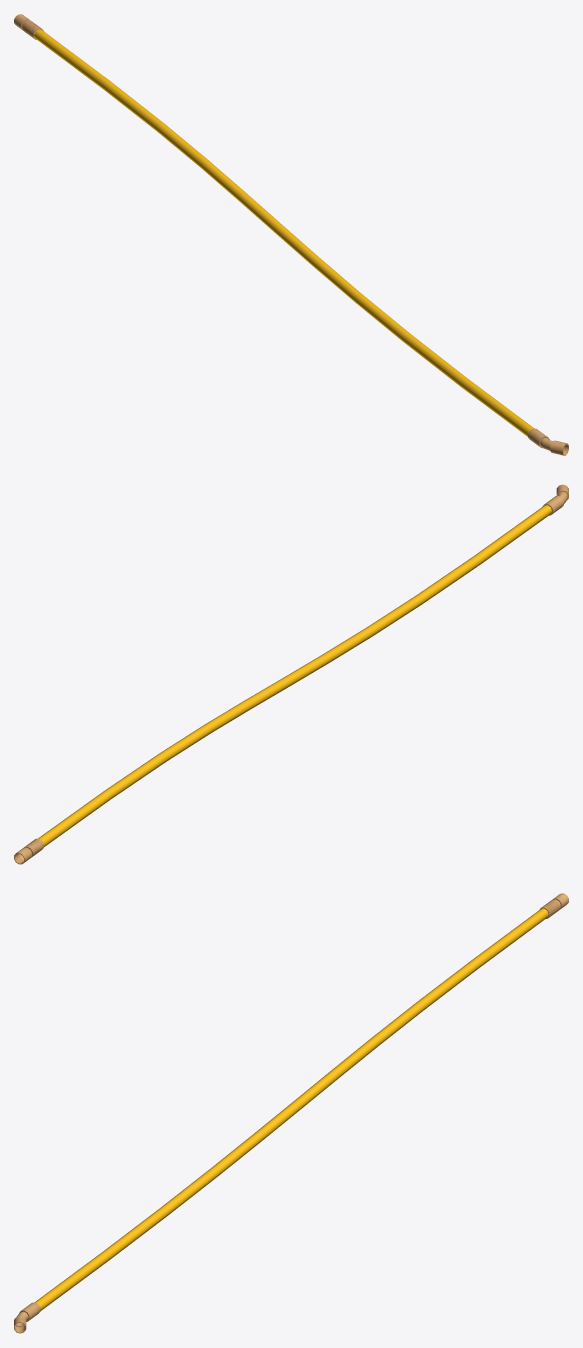
The model's file is wireyellow.glb.
3 views of the same model, one above another, from view 1: azimuth 30°, elevation 25°; view 2: azimuth 150°, elevation 25°; view 3: azimuth 330°, elevation 25° (orthographic).
Parts seen in each view (by area): view 1: wire yellow3, wire yellow10, wire yellow4, wire yellow9, wire yellow5, wire yellow6, wire yellow8, wire yellow7, nozzle yellow_01; view 2: wire yellow3, wire yellow10, wire yellow4, wire yellow9, wire yellow5, wire yellow6, wire yellow8, wire yellow7, wire yellow2, wire yellow1, wire yellow11; view 3: wire yellow3, wire yellow10, wire yellow4, wire yellow9, wire yellow5, wire yellow6, wire yellow8, wire yellow7.
Part boxes in pixels (x1,y1,x2,y2): wire yellow3: [401, 332, 465, 385]; wire yellow10: [102, 80, 163, 131]; wire yellow4: [353, 293, 408, 340]; wire yellow9: [156, 123, 206, 167]; wire yellow5: [312, 257, 360, 301]; wire yellow6: [274, 224, 319, 265]; wire yellow8: [199, 159, 244, 200]; wire yellow7: [237, 191, 281, 232]; nozzle yellow_01: [528, 428, 568, 455]; wire yellow3: [416, 555, 481, 603]; wire yellow10: [105, 753, 166, 798]; wire yellow4: [367, 595, 423, 635]; wire yellow9: [160, 724, 211, 761]; wire yellow5: [324, 627, 373, 662]; wire yellow6: [283, 653, 330, 686]; wire yellow8: [205, 700, 251, 733]; wire yellow7: [244, 677, 290, 709]; wire yellow2: [474, 530, 516, 563]; wire yellow1: [510, 505, 551, 538]; wire yellow11: [70, 790, 112, 823]; wire yellow3: [103, 1207, 168, 1260]; wire yellow10: [418, 959, 479, 1009]; wire yellow4: [161, 1168, 217, 1215]; wire yellow9: [372, 1001, 425, 1045]; wire yellow5: [210, 1133, 261, 1176]; wire yellow6: [254, 1100, 301, 1141]; wire yellow8: [333, 1036, 380, 1077]; wire yellow7: [294, 1069, 340, 1108].
Size of the model in its own units: 0.0178 by 0.0382 by 0.903.
Materials: 1 (1 with a texture image).
